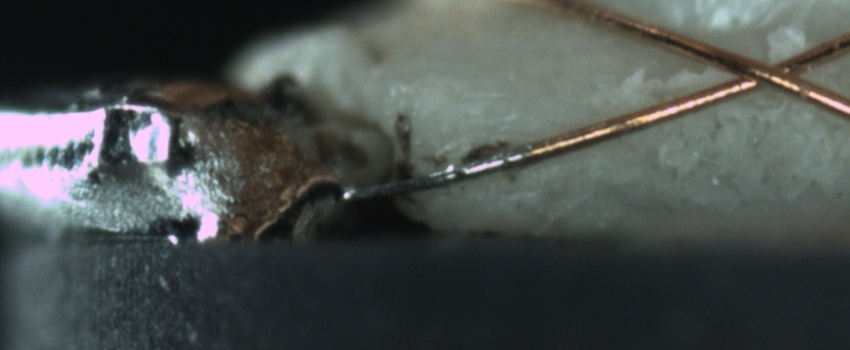CL: (696, 46, 822, 99)
TS: (343, 147, 527, 202)
